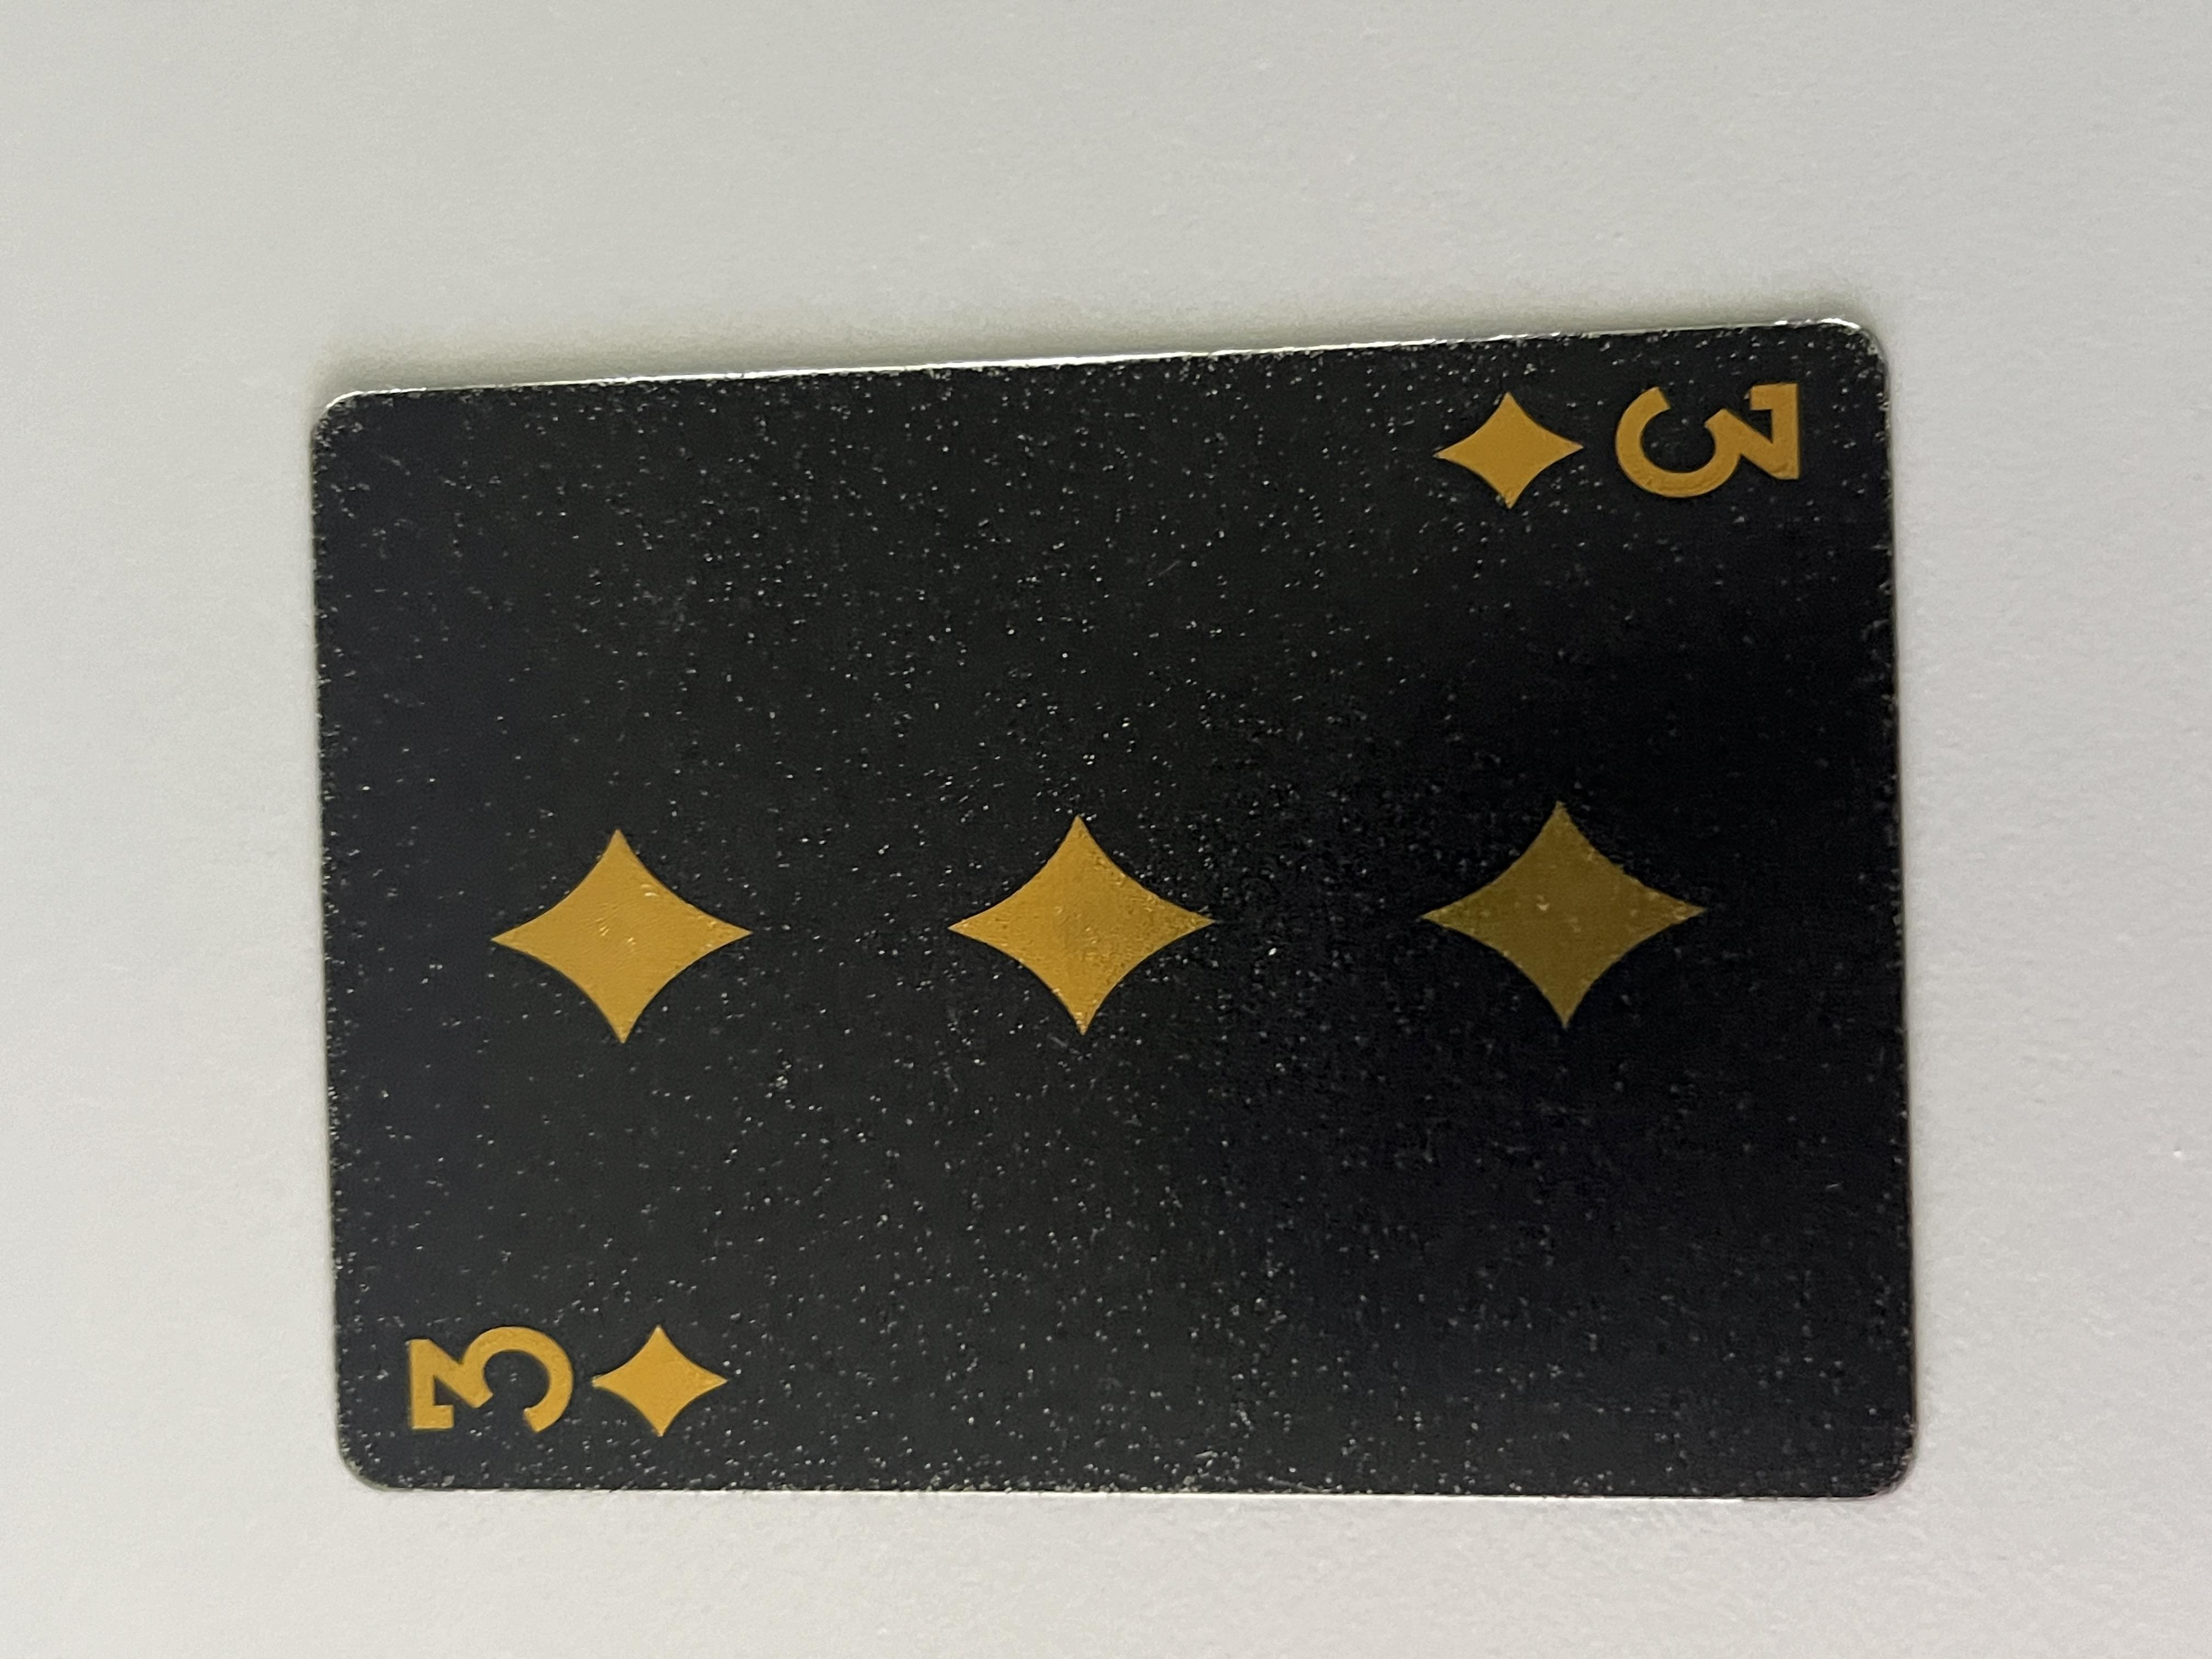3D: (1514, 1070, 1749, 1368), (273, 300, 479, 561)
